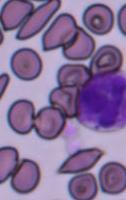E: (76, 70, 126, 132)
